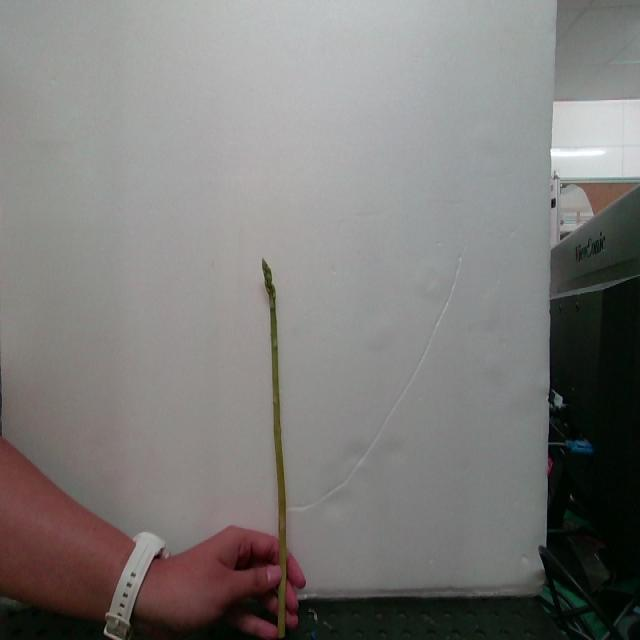aspargus: (260, 263, 295, 624)
